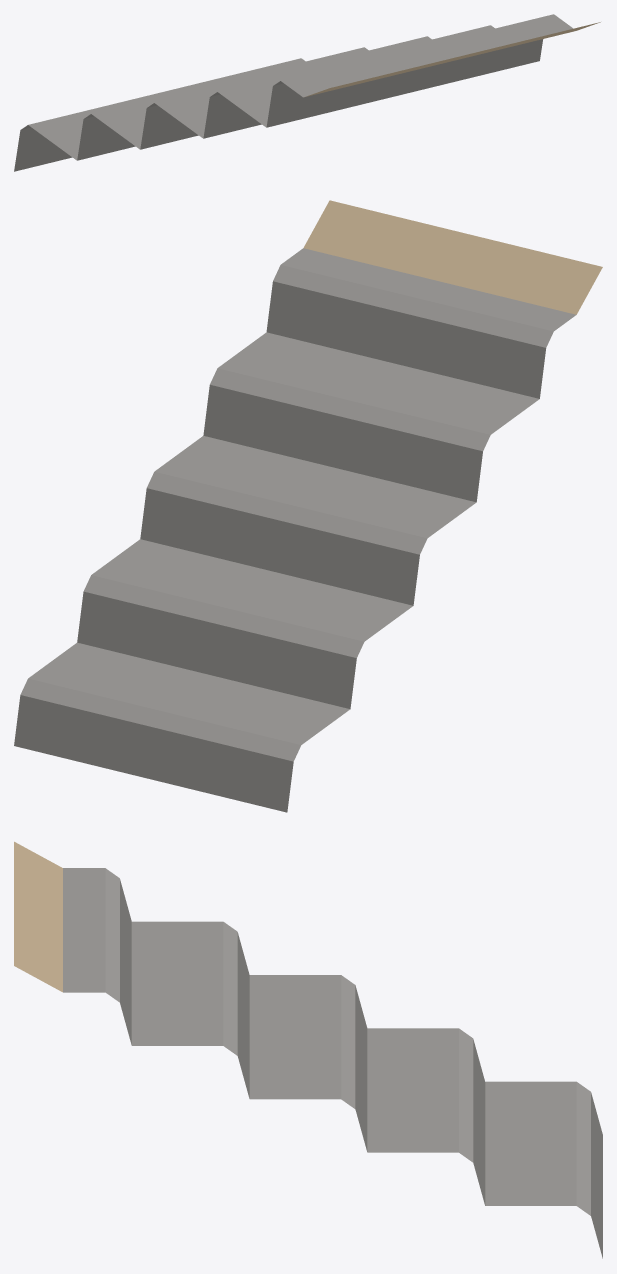
Rendered from Cliff_Terrain_Path_Steps_Center_Top.fbx.
The picture shows the model from 3 angles, top to bottom: view 1: azimuth 30°, elevation 25°; view 2: azimuth 150°, elevation 25°; view 3: azimuth 270°, elevation 25°; orthographic projection. The views are drawn at different scales.
Visible parts, largest first — view 1: object1; view 2: object1; view 3: object1.
Part boxes in pixels (x1,y1,x2,y2): object1: [14, 14, 600, 171]; object1: [14, 200, 602, 812]; object1: [14, 841, 602, 1258].
Size of the model in its own units: 1 by 1.1 by 2.
